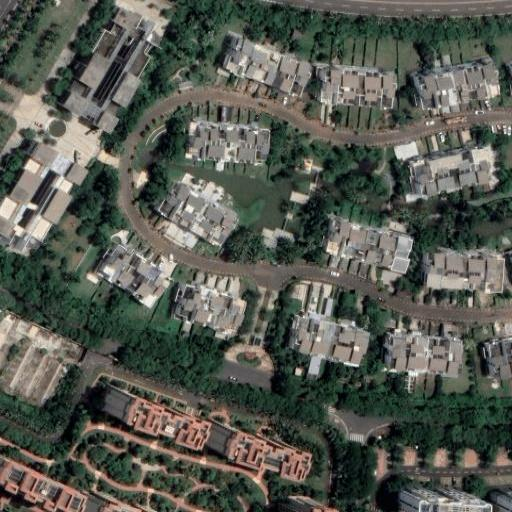building: (58, 5, 171, 136), (284, 278, 374, 379), (153, 170, 244, 249), (318, 215, 416, 288), (217, 31, 316, 101), (92, 232, 176, 308), (382, 319, 463, 396), (168, 269, 249, 345), (105, 384, 196, 445), (405, 142, 502, 198), (210, 419, 300, 476), (416, 59, 503, 113), (0, 450, 73, 512), (314, 63, 401, 111), (183, 118, 271, 165), (424, 250, 506, 293), (80, 489, 167, 512), (480, 336, 512, 382), (400, 500, 477, 512), (497, 487, 512, 512), (290, 190, 311, 205), (291, 505, 323, 512)
